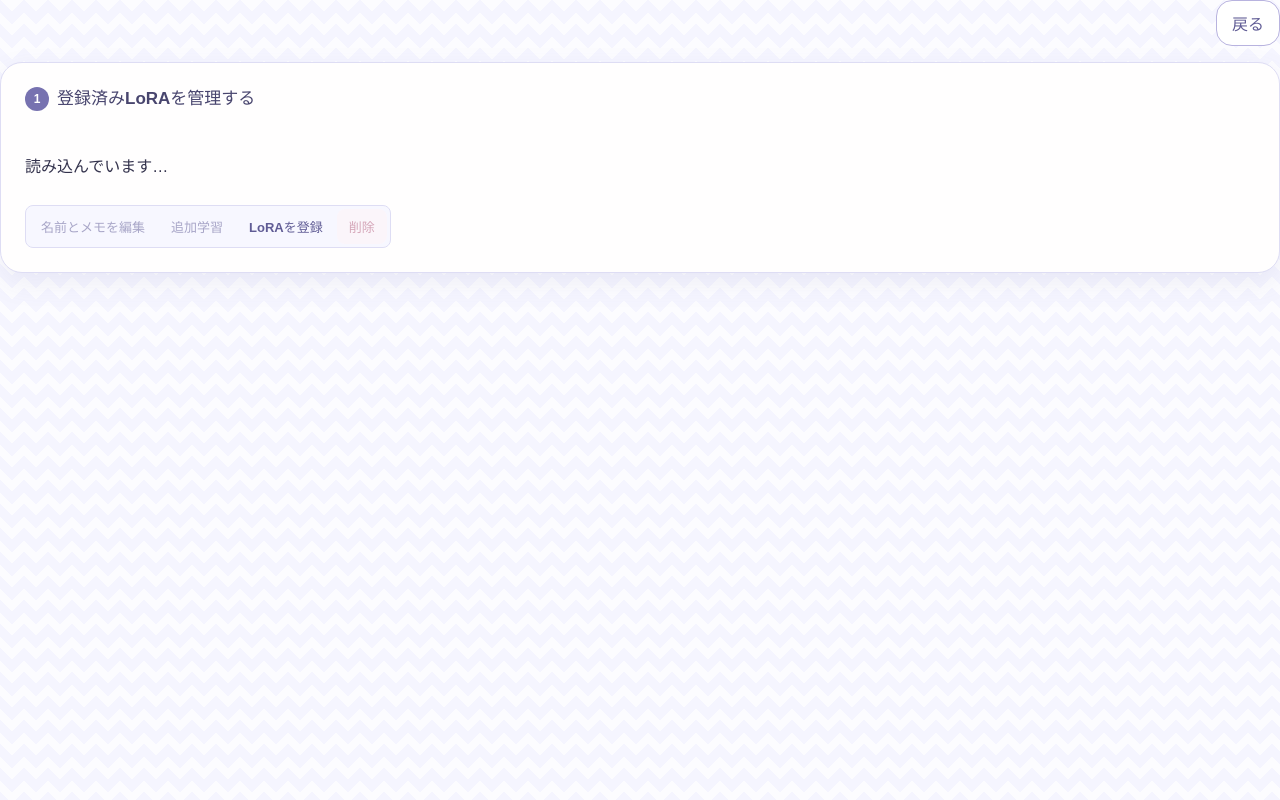
Test: adds a registered adapter to the choices without selecting it
Click the button "LoRAを登録" at (286, 227), box [237,209,335,244]
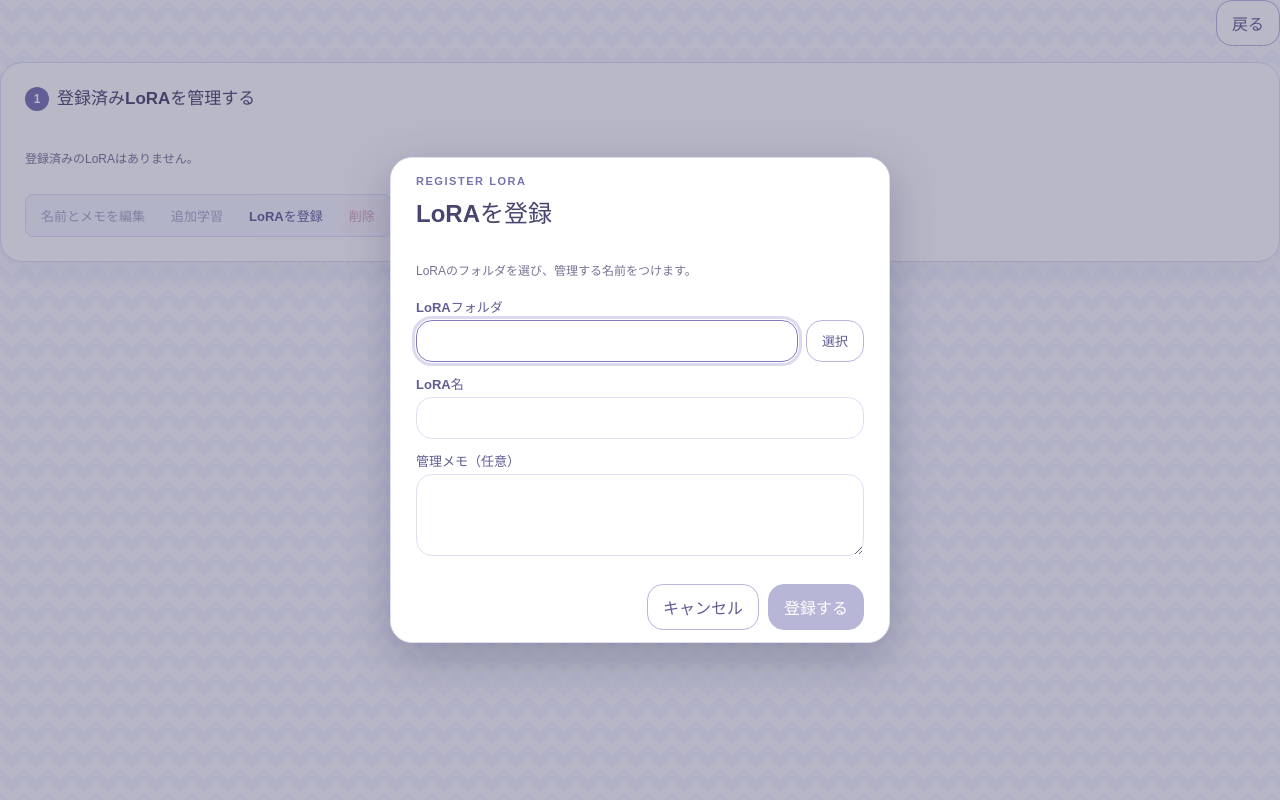
Type "/local/adapter" into the field labelled "LoRAフォルダ" at (607, 341), box [416,320,798,362]
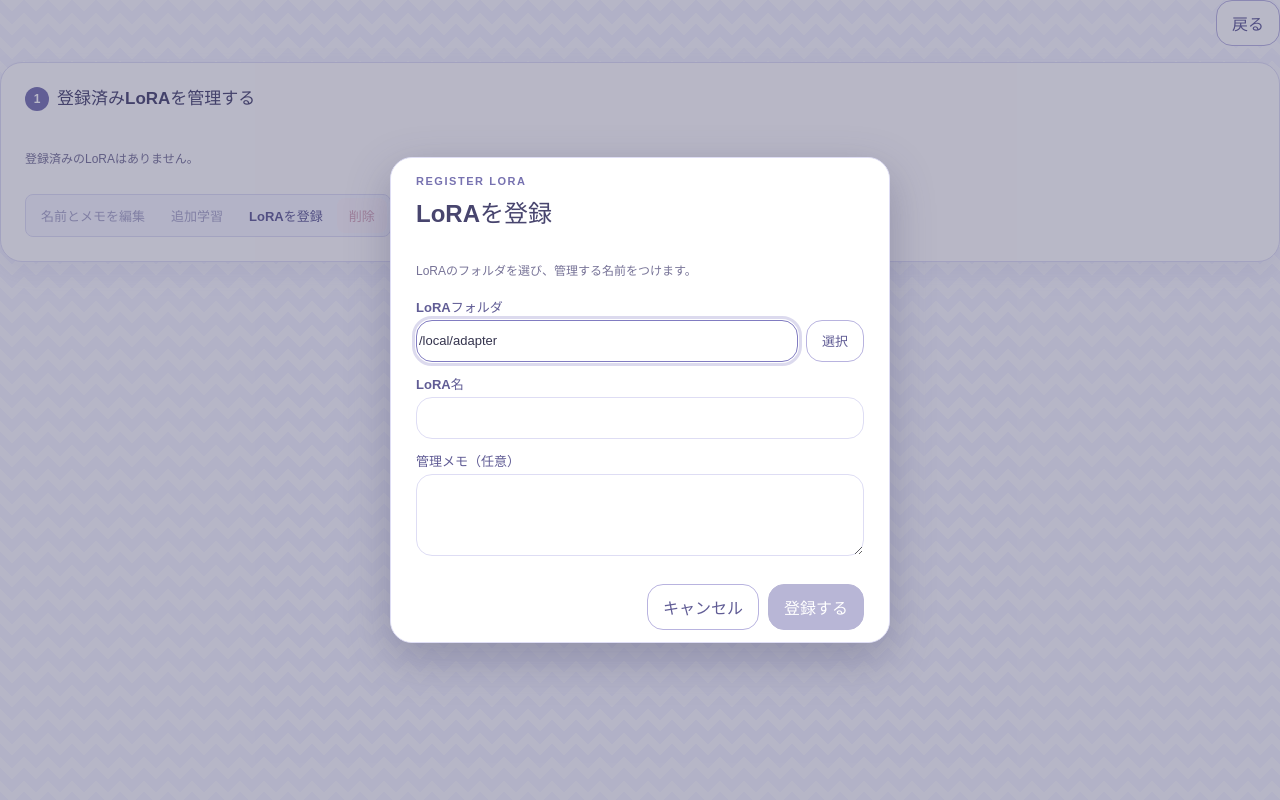
Type "声" into the field labelled "LoRA名" at (640, 418), box [416,397,864,439]
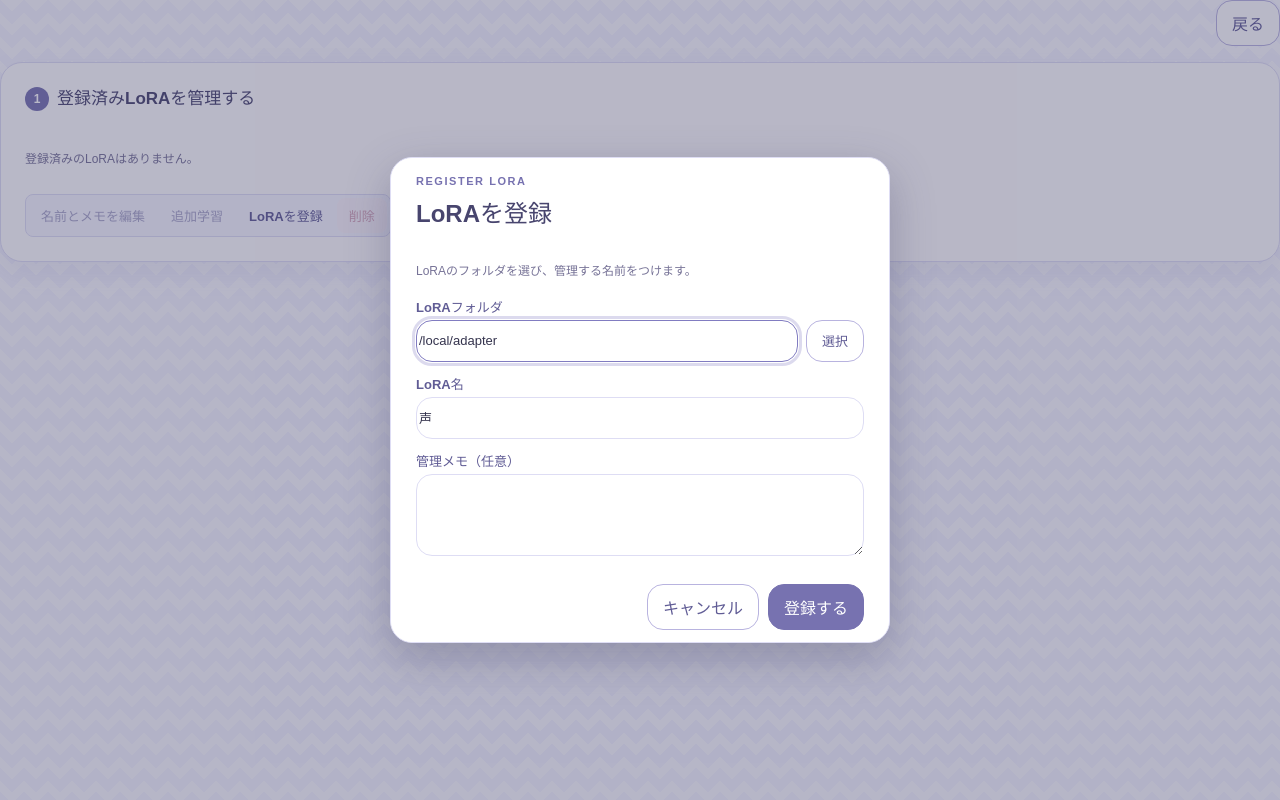
Click the button "登録する" at (816, 607), box [768,584,864,630]
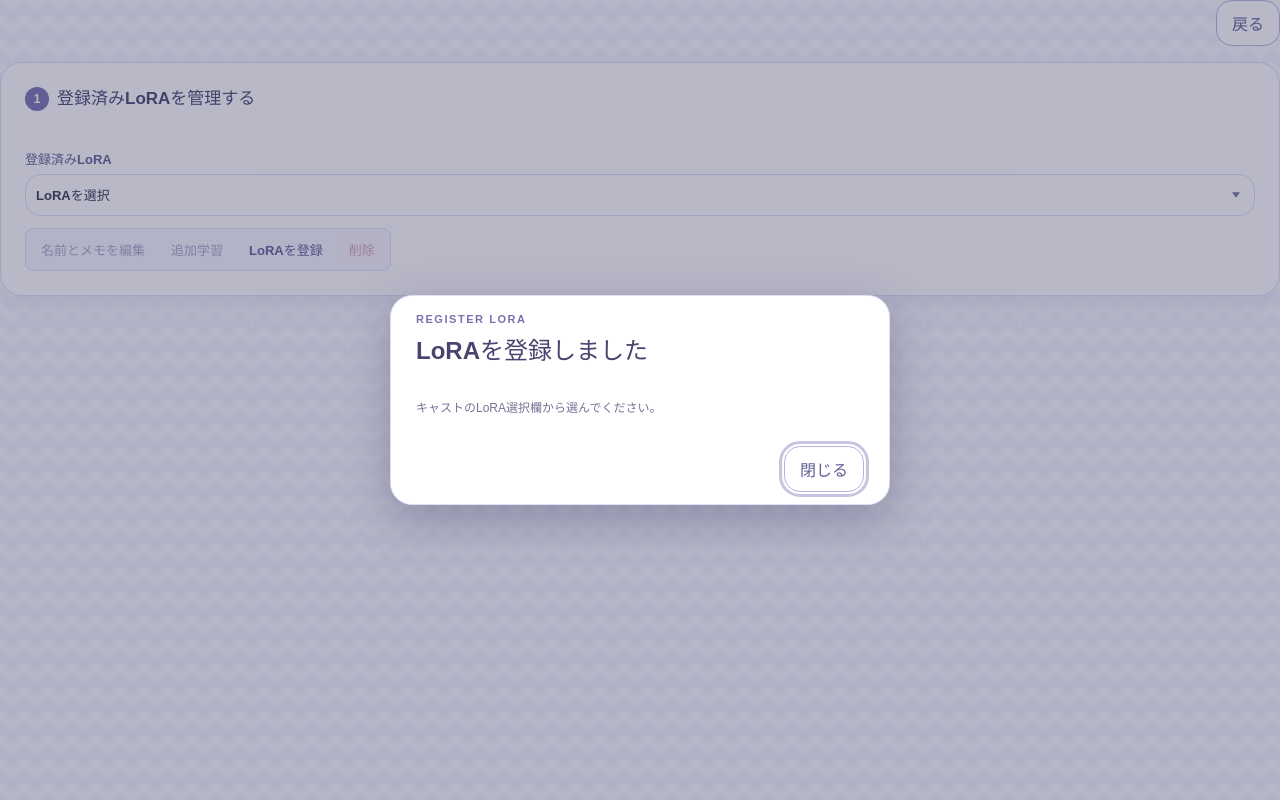
Result: the heading "LoRAを登録しました" is shown at [416,331,648,366]
Click the button "閉じる" at (824, 469), box [784,446,864,492]
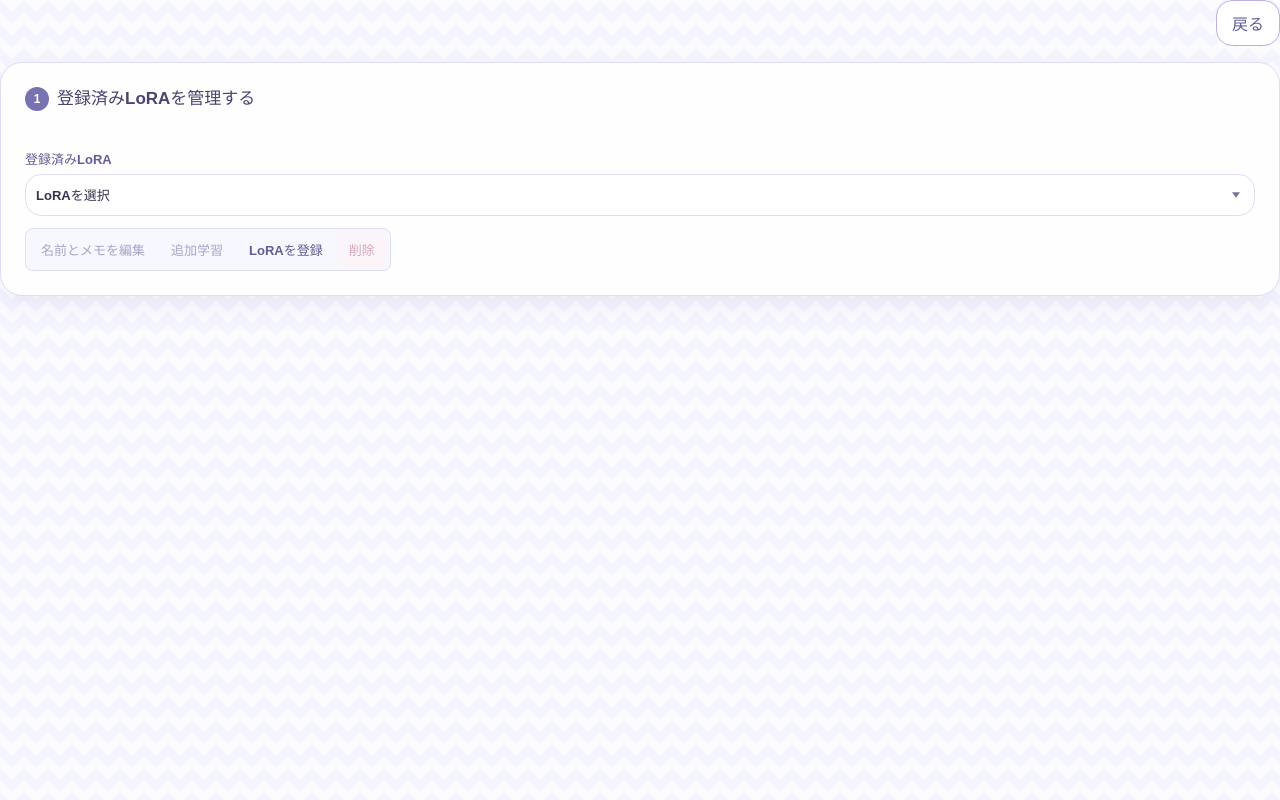
Result: the dropdown labelled "登録済みLoRA" shows "LoRAを選択" at [25,174,1255,216]
Result: the dialog is gone
